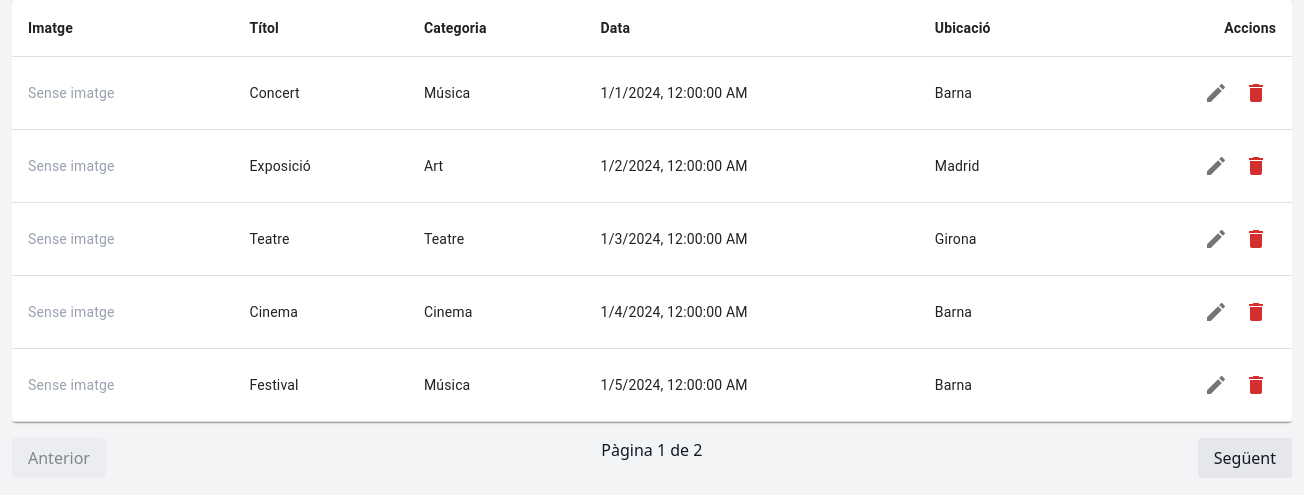
Test: EventTable Component › hauria de canviar de pàgina correctament
Click the button "Següent" at (1245, 458), box [1198,438,1292,478]
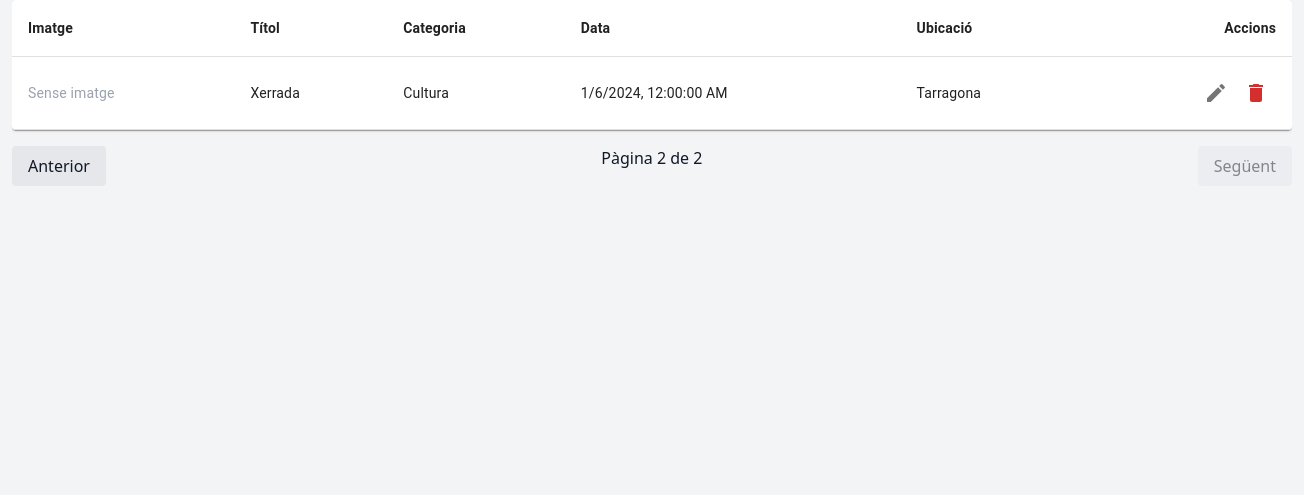
Expected: the text "Xerrada" is shown, [234,56,387,130]
